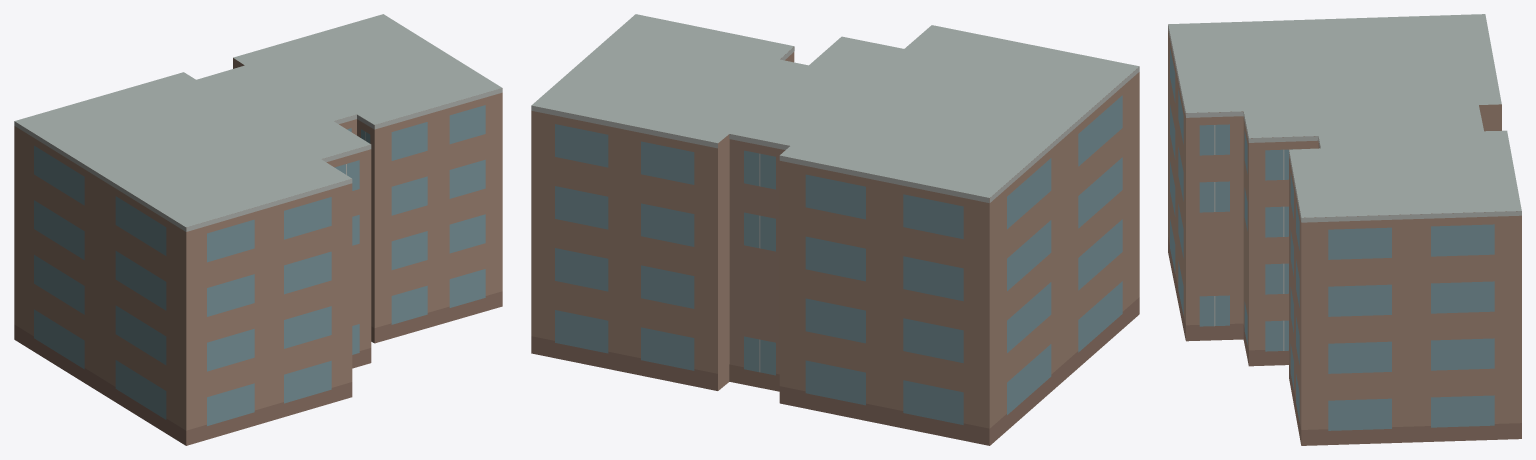
Rendered from survey-upis-32622643.glb.
3 views of the same model, side by side, from view 1: azimuth 30°, elevation 25°; view 2: azimuth 150°, elevation 25°; view 3: azimuth 270°, elevation 25° (orthographic). The views are drawn at different scales.
Visible parts, largest first — view 1: survey-upis-32622643.tmp; view 2: survey-upis-32622643.tmp; view 3: survey-upis-32622643.tmp.
Boxes of the visible parts, x1,y1,x2,y2 form: survey-upis-32622643.tmp: (14,14,502,445); survey-upis-32622643.tmp: (531,14,1139,445); survey-upis-32622643.tmp: (1168,14,1521,445).
Size of the model in its own units: 22.25 by 11.6 by 16.32.
